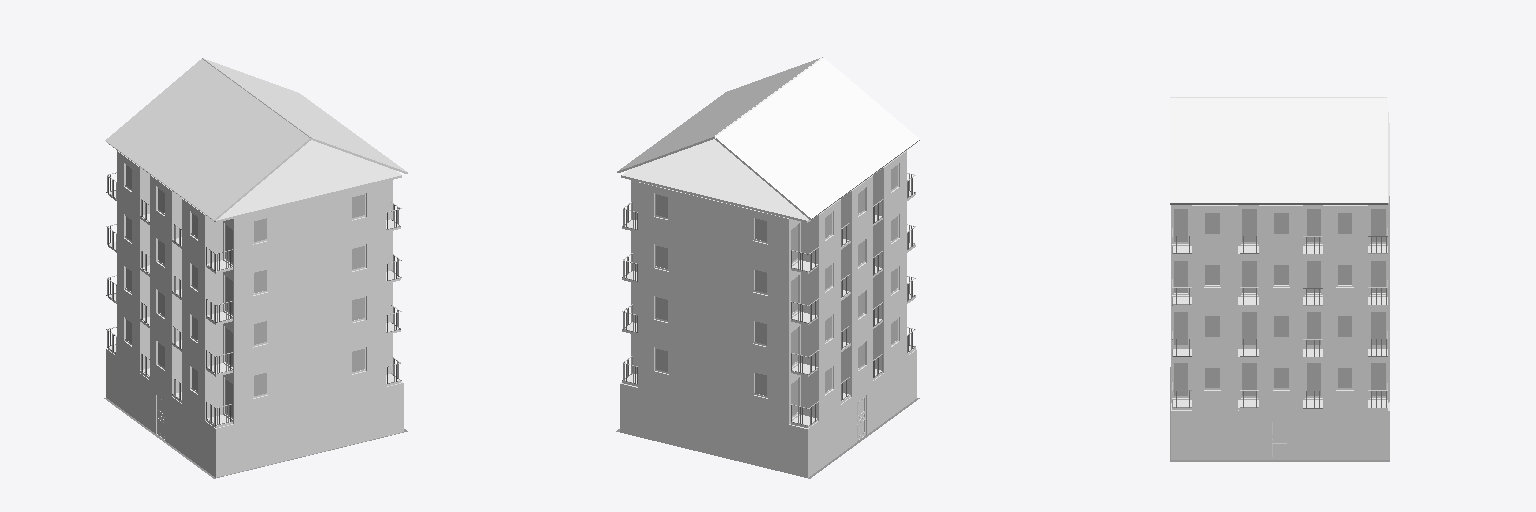
The model's file is building0.obj.
The picture shows the model from 3 angles: view 1: azimuth 30°, elevation 25°; view 2: azimuth 150°, elevation 25°; view 3: azimuth 270°, elevation 25°; orthographic projection.
Parts seen in each view (by area): view 1: front_1537, wall_2_11, wall_41_245, wall_13_77, wall_97_581, wall_69_413, room_154_723, wall_1_5, front_1543, wall_66_395, wall_5_29, wall_10_59 (+13 smaller); view 2: front_1537, wall_4_23, wall_116_694, wall_32_190, wall_60_358, wall_88_526, room_154_723, wall_1_5, front_1543, wall_10_59, wall_94_563, wall_5_29 (+13 smaller); view 3: front_1543, wall_3_17, wall_44_263, wall_16_95, wall_72_431, wall_52_311, wall_100_599, wall_48_287, wall_24_143, wall_80_479, wall_108_647, wall_20_119 (+8 smaller).
Part boxes in pixels (x1,y1,x2,y2): front_1537: (105,58,309,219); wall_2_11: (216,383,403,477); wall_41_245: (234,284,385,372); wall_13_77: (234,336,385,423); wall_97_581: (234,182,385,269); wall_69_413: (234,233,385,320); room_154_723: (109,140,401,222); wall_1_5: (106,349,215,477); front_1543: (205,59,406,171); wall_66_395: (182,250,204,317); wall_5_29: (117,305,139,372); wall_10_59: (182,353,204,420); front_1537: (715,58,919,218); wall_4_23: (620,384,806,477); wall_116_694: (638,182,789,269); wall_32_190: (638,337,789,424); wall_60_358: (638,285,789,372); wall_88_526: (638,234,789,321); room_154_723: (621,139,914,222); wall_1_5: (807,350,916,477); front_1543: (617,57,822,171); wall_10_59: (884,305,906,372); wall_94_563: (884,151,906,218); wall_5_29: (818,354,840,420); front_1543: (1170,97,1387,202); wall_3_17: (1171,411,1389,459); wall_44_263: (1192,308,1237,359); wall_16_95: (1192,360,1237,410); wall_72_431: (1192,257,1237,307); wall_52_311: (1323,308,1367,359); wall_100_599: (1192,206,1237,256); wall_48_287: (1259,308,1302,359); wall_24_143: (1323,360,1367,410); wall_80_479: (1323,257,1367,307); wall_108_647: (1323,206,1367,256); wall_20_119: (1259,360,1302,410).
Bounding box in the file's own units: 1036 × 1619 × 1019.